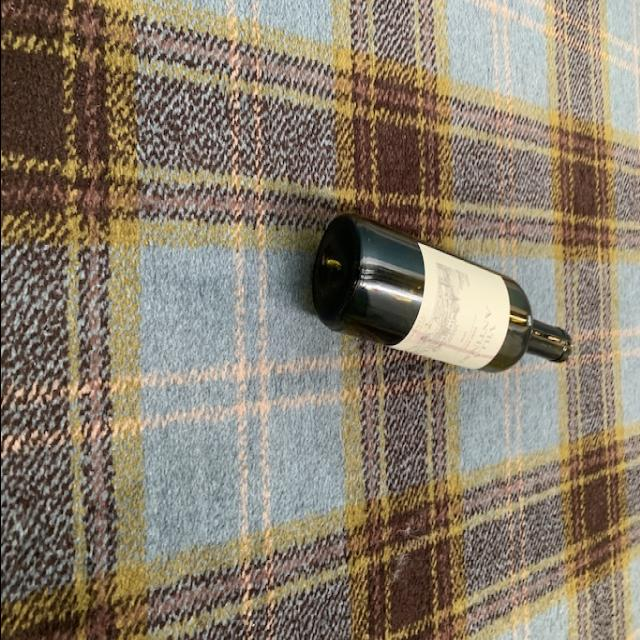litter: (308, 210, 576, 379)
